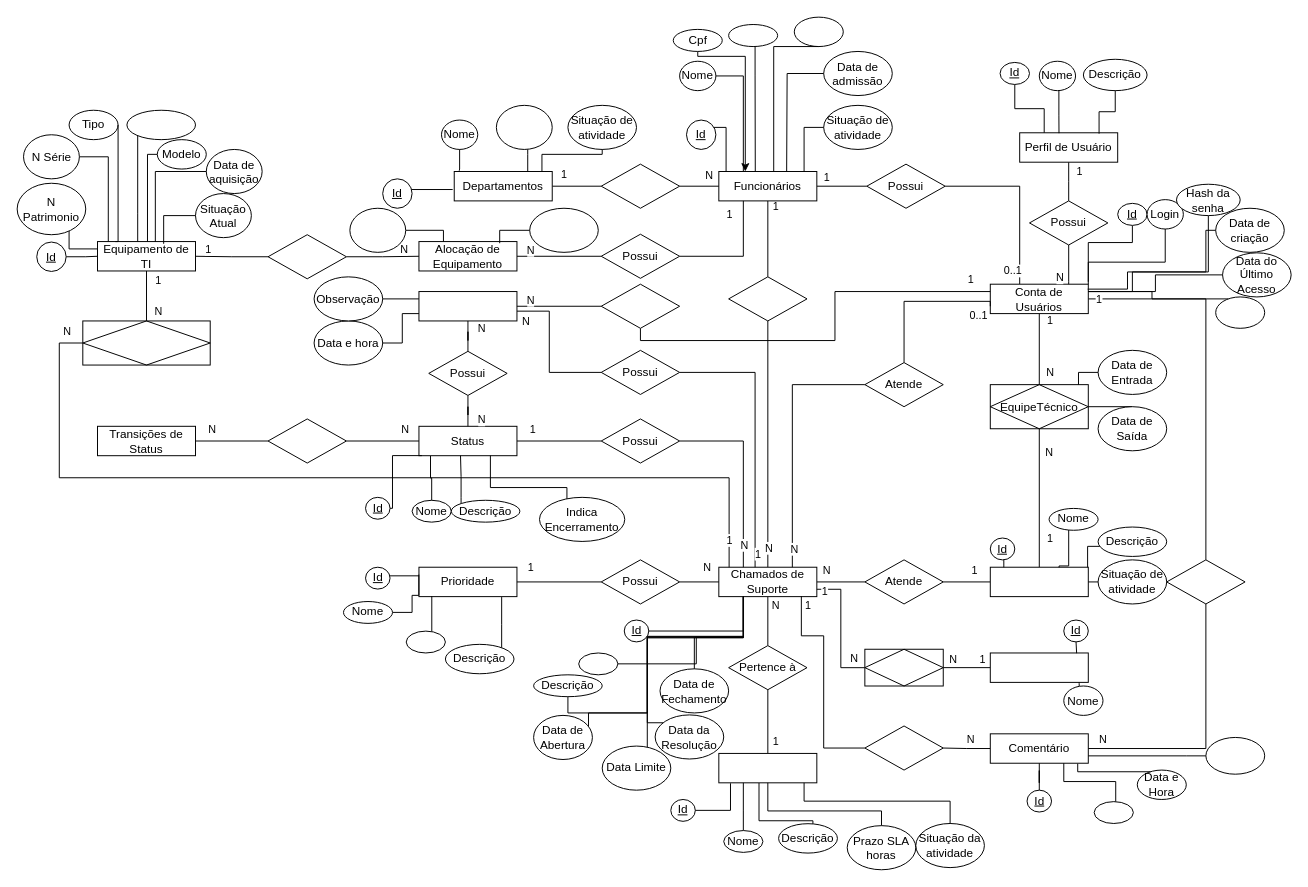
The diagram is 1308 pixels wide and 887 high, and some of its shapes have lost their labels. Each missing label, with the centre of its shape:
Abre: [767,298]
Alocado à: [306,256]
Categoria: [767,767]
Centro de custo: [523,126]
ChamadoEquipamento: [146,342]
ChamadoTag: [903,667]
Data de devolução: [563,229]
Data de entrega: [377,229]
Email: [753,35]
Equipes de Suporte: [1038,581]
Escreve: [1205,581]
Fabricante: [161,124]
Histórico de Chamado: [467,306]
Interno: [1235,755]
Lota: [640,185]
Participa: [306,440]
Peso: [425,641]
Recebe: [903,747]
Registra: [640,305]
Situação: [1240,312]
Tag: [1038,667]
Telefone: [818,31]
Texto: [1113,812]
Título: [598,663]
